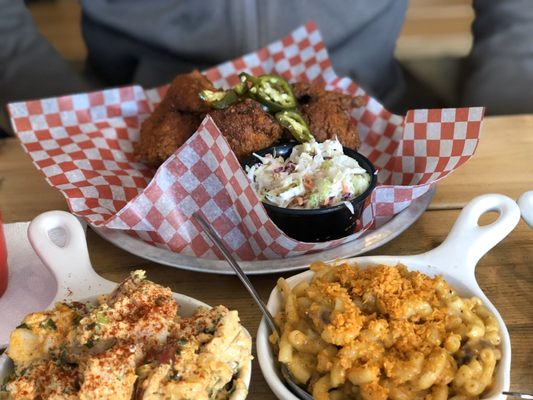salad: (331, 192, 525, 305)
sushi: (252, 138, 378, 244)
